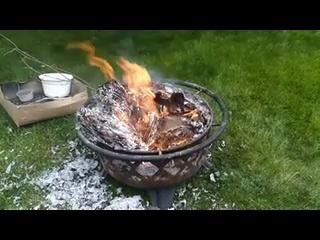Fire: (70, 34, 179, 132)
